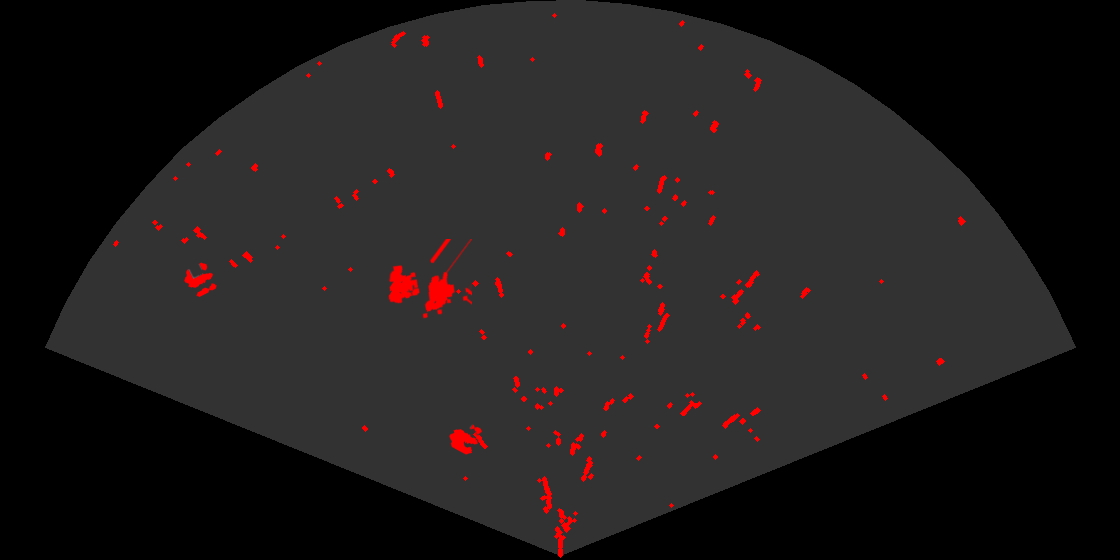ball: (183, 261, 218, 299), (448, 423, 484, 456)
cage: (387, 239, 472, 320)
